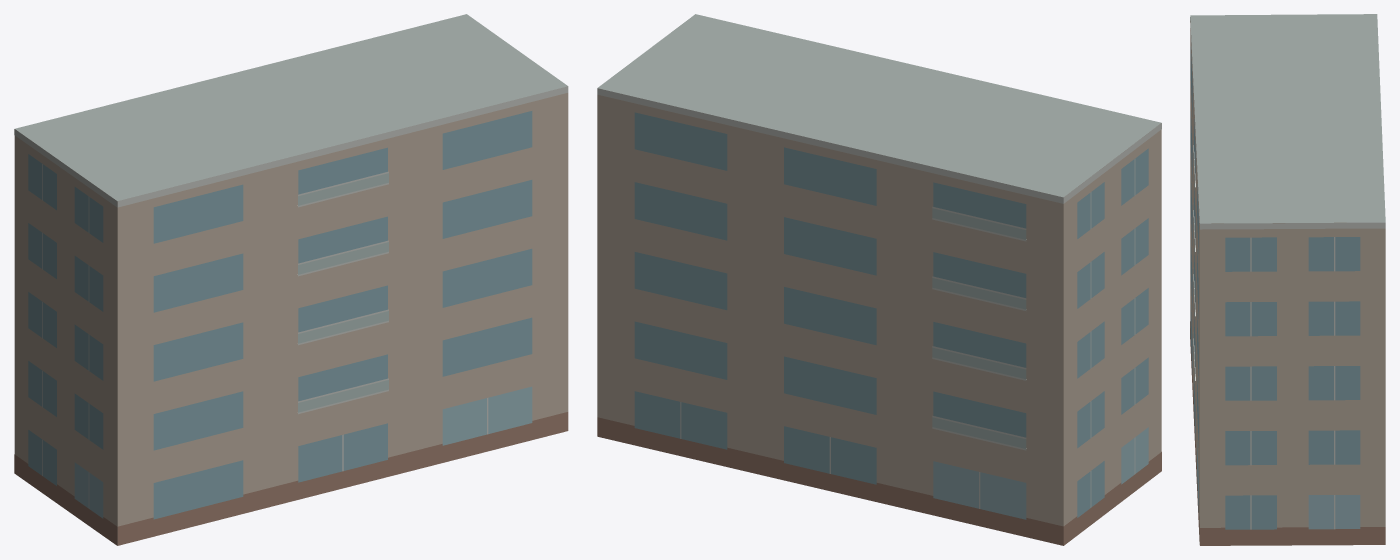
Rendered from survey-upis-32748403.glb.
The picture shows the model from 3 angles, left to right: view 1: azimuth 30°, elevation 25°; view 2: azimuth 150°, elevation 25°; view 3: azimuth 270°, elevation 25°; orthographic projection. The views are drawn at different scales.
Visible parts, largest first — view 1: survey-upis-32748403.tmp; view 2: survey-upis-32748403.tmp; view 3: survey-upis-32748403.tmp.
Part boxes in pixels (x1,y1,x2,y2): survey-upis-32748403.tmp: (14, 14, 568, 545); survey-upis-32748403.tmp: (597, 14, 1161, 545); survey-upis-32748403.tmp: (1190, 14, 1385, 545).
Bounding box in the file's own units: 18.34 × 13.15 × 7.24.
